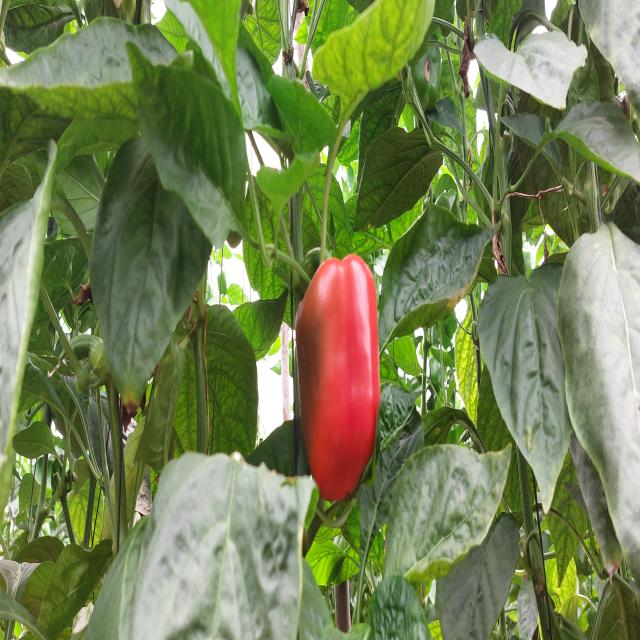Red-Ready-to-Harvest: (291, 252, 386, 517)
